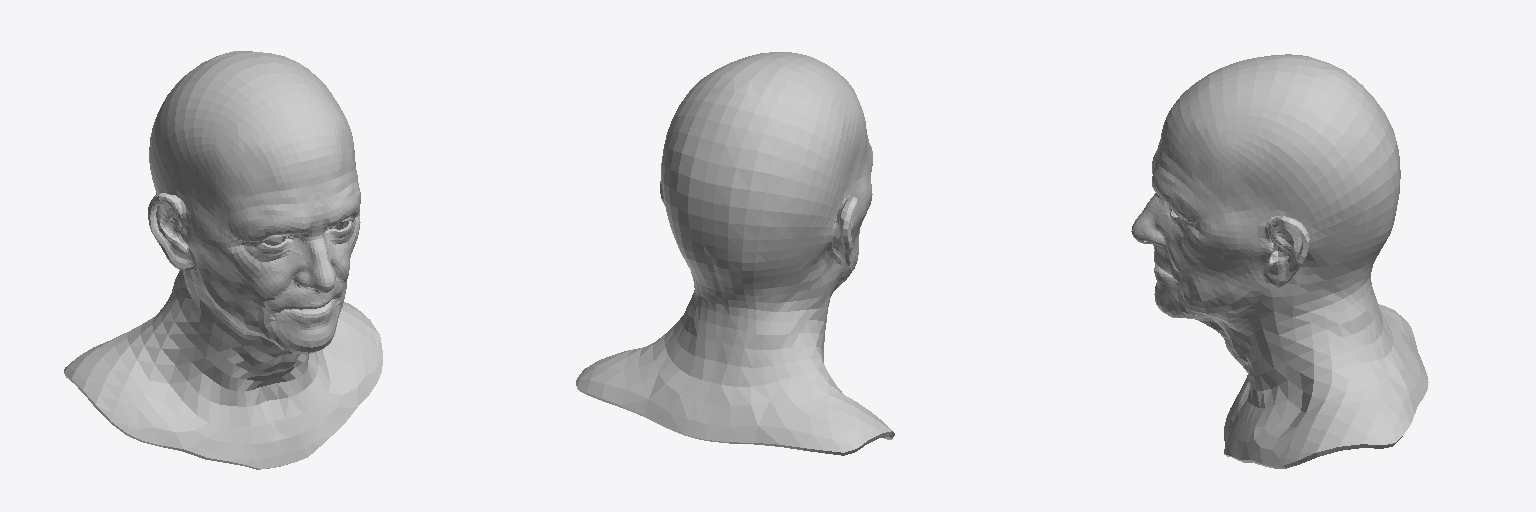
The model's file is wholeFace_NasalCartilage_Orbit.obj.
3 views of the same model, side by side, from view 1: azimuth 30°, elevation 25°; view 2: azimuth 150°, elevation 25°; view 3: azimuth 270°, elevation 25° (orthographic).
Bounding box in the file's own units: 25.29 × 32.26 × 22.63.